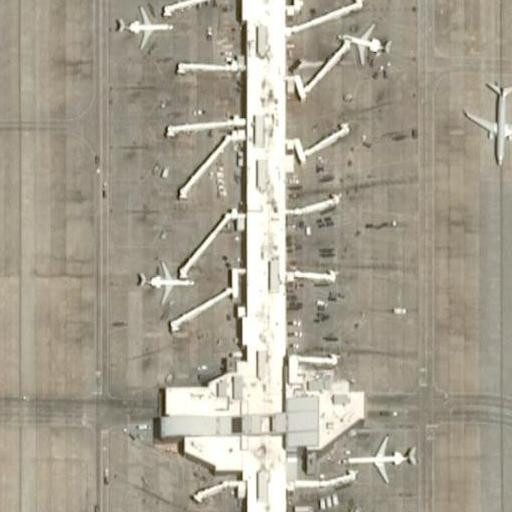Aircraft: (457, 72, 512, 168), (342, 429, 423, 484), (131, 256, 204, 305), (115, 3, 180, 54), (337, 20, 397, 71), (330, 500, 409, 512)
